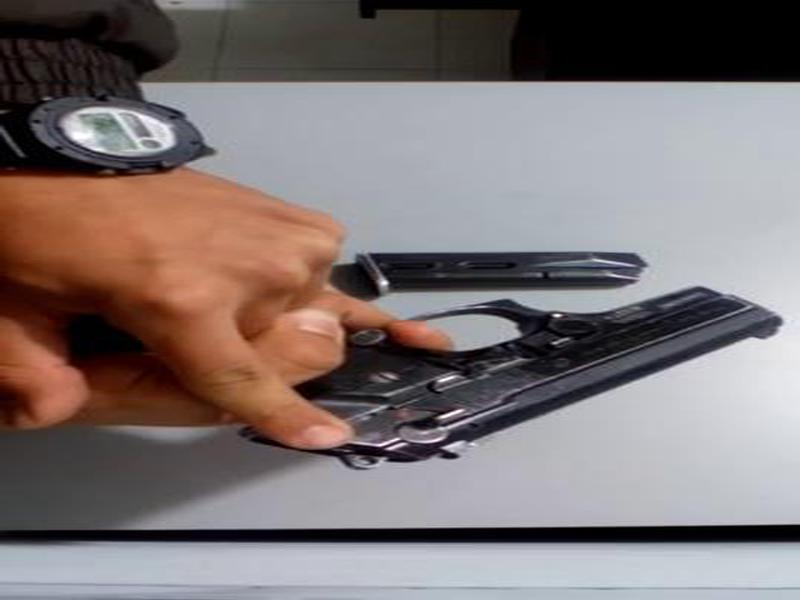Pistola: (270, 274, 771, 478)
